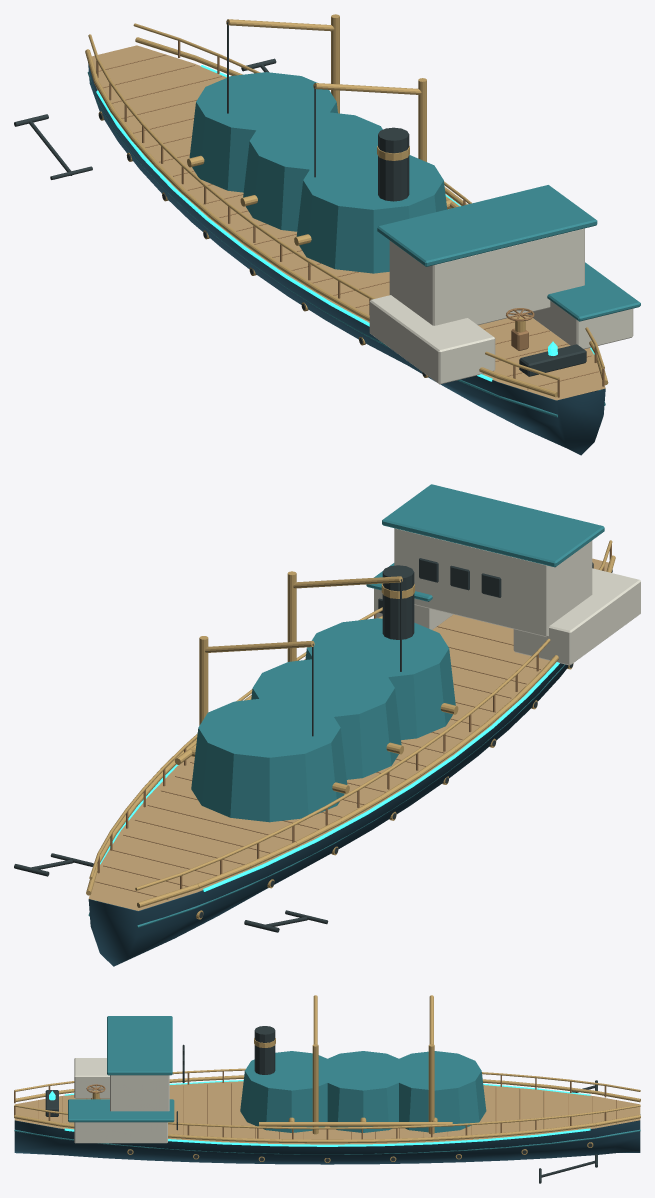
Rendered from ship_tanker.glb.
3 renders of one model, top to bottom at view 1: azimuth 30°, elevation 25°; view 2: azimuth 150°, elevation 25°; view 3: azimuth 270°, elevation 25°, orthographic. The views are drawn at different scales.
Parts seen in each view (by area): view 1: ship_tanker; view 2: ship_tanker; view 3: ship_tanker.
Part boxes in pixels (bbox=[...]): ship_tanker: bbox=[14, 14, 640, 455]; ship_tanker: bbox=[14, 484, 640, 966]; ship_tanker: bbox=[14, 995, 640, 1183].
Bounding box in the file's own units: 7.03 × 5.37 × 21.05.
